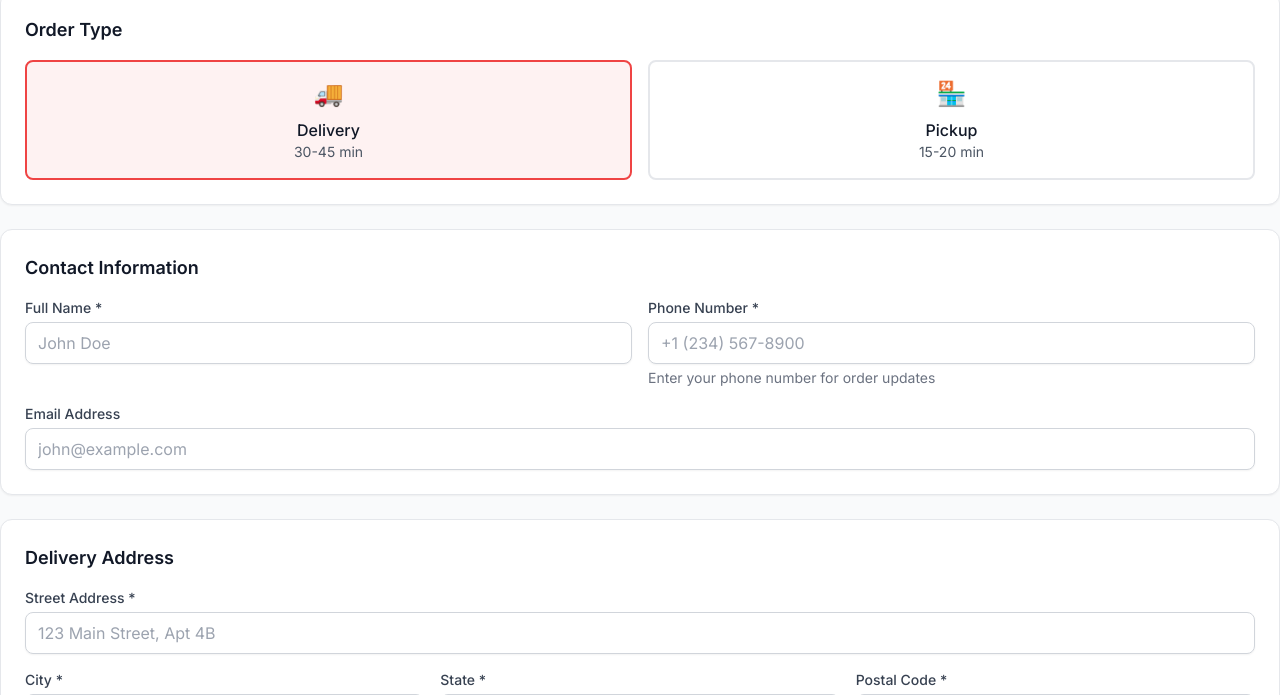
Test: CheckoutForm › should show validation errors for delivery address when delivery is selected
Click the field with placeholder "123 Main Street, Apt 4B". click: (640, 633)
box: [25,612,1255,654]
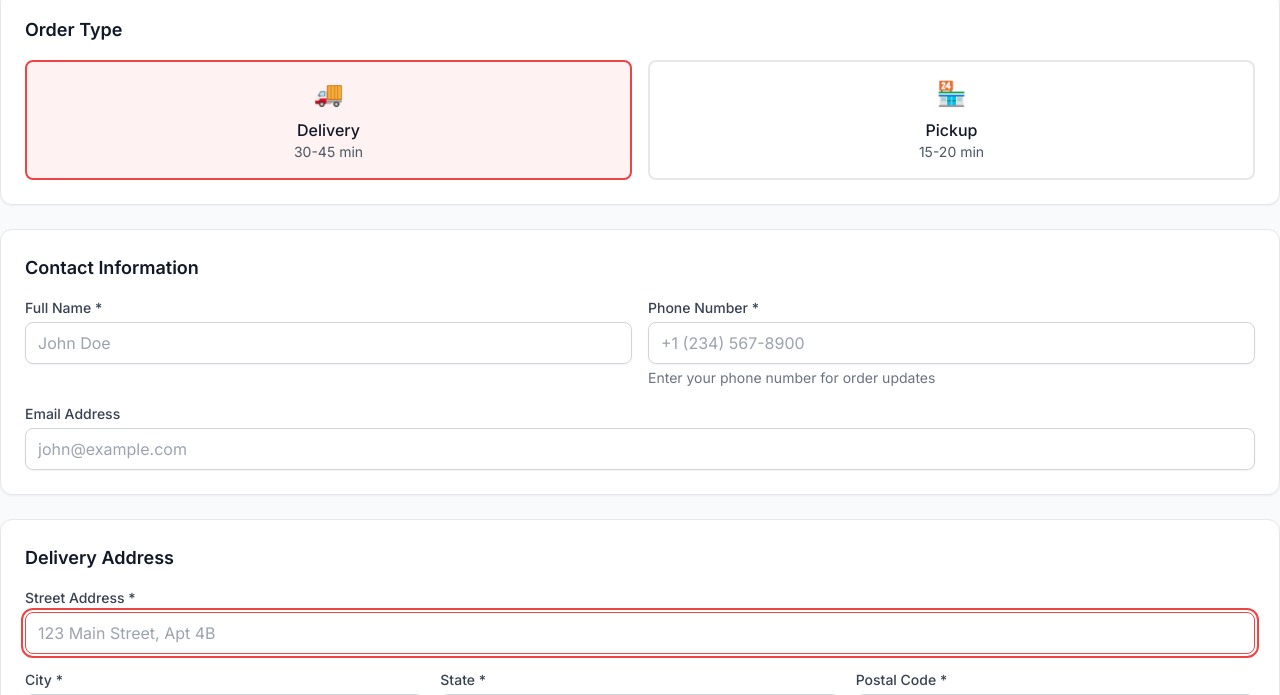
Press Tab
(page scrolled)
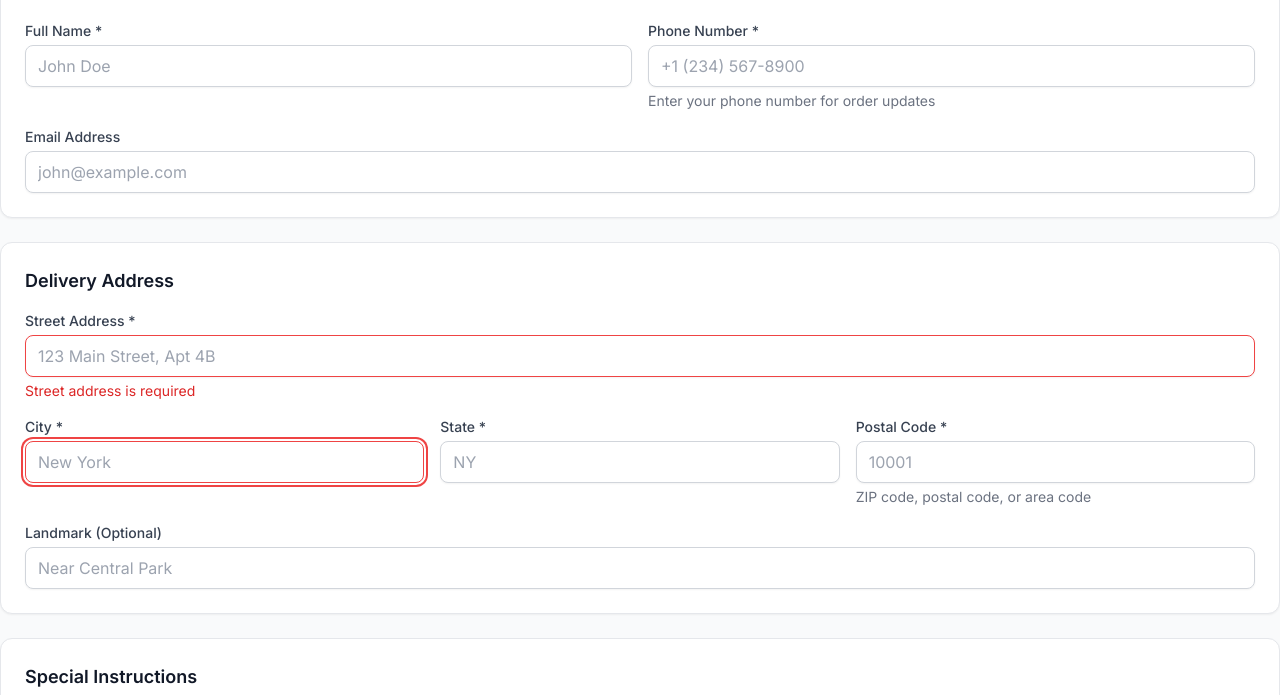
Result: the text "Street address is required" is shown at [25,382,195,399]
